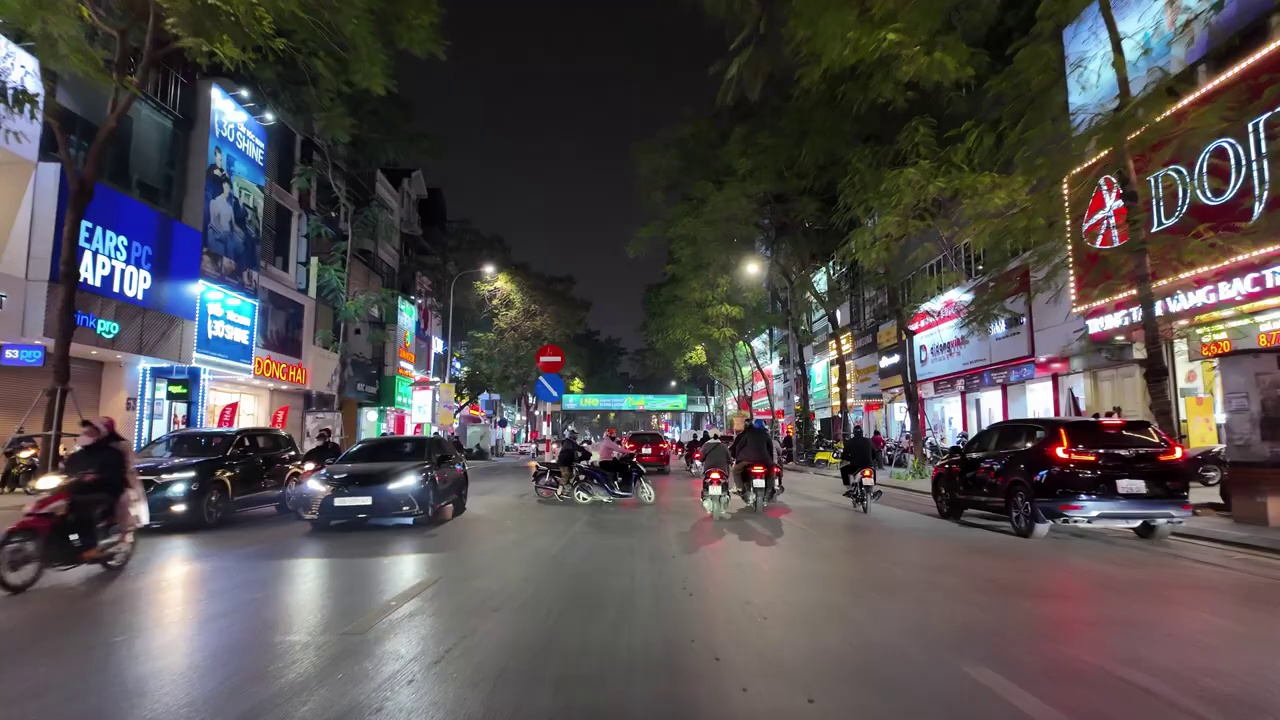acesa: (736, 256, 765, 284), (475, 261, 500, 282)
